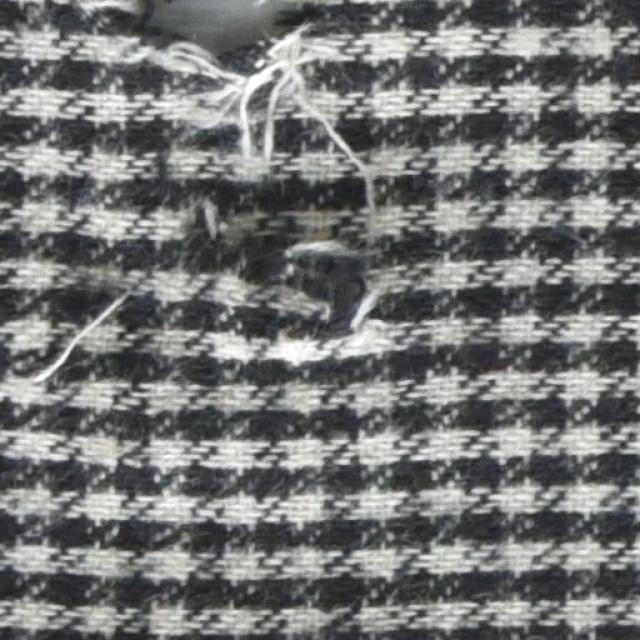Hole: (128, 1, 314, 73)
Snag: (127, 27, 385, 359)
